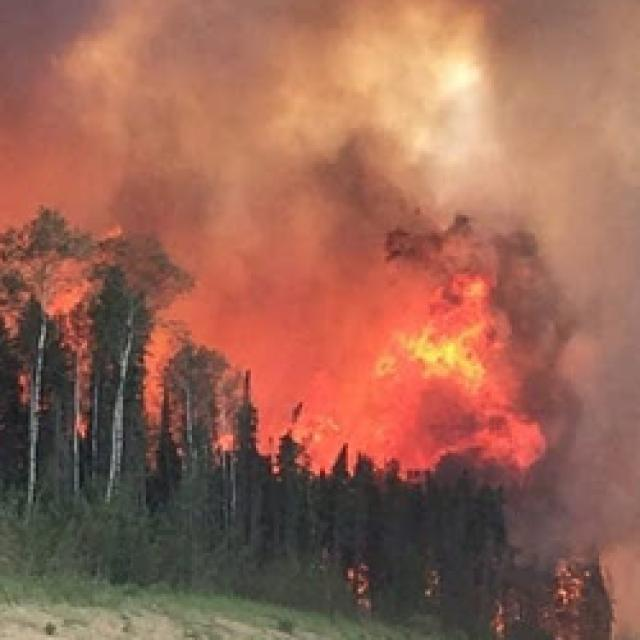Fire: (358, 384, 546, 477), (372, 278, 488, 384), (52, 290, 98, 437), (550, 560, 588, 640), (138, 328, 170, 418), (285, 410, 338, 460), (346, 562, 372, 610), (496, 605, 506, 633)
Smoke: (0, 0, 640, 231), (161, 232, 640, 282), (188, 282, 368, 409), (486, 282, 640, 382), (503, 474, 640, 560), (545, 383, 640, 473)
